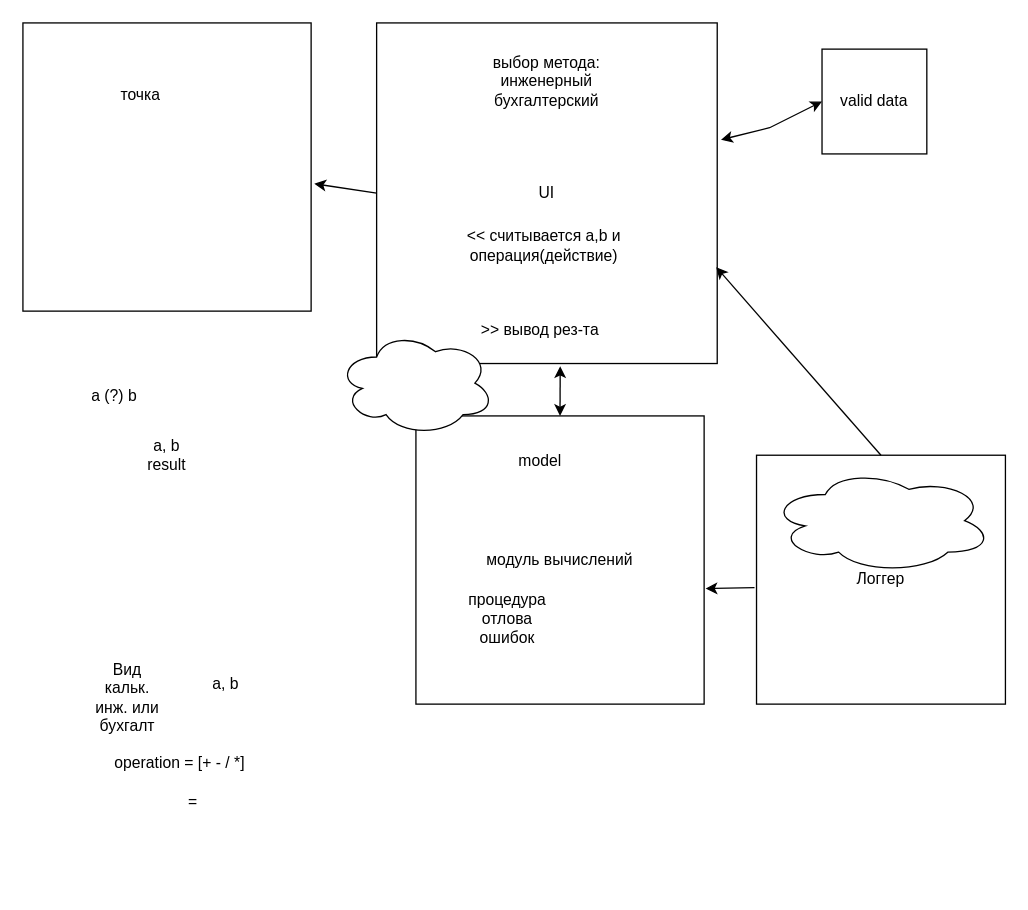
Some shapes in this 1028 by 910 pixel diagram are drawn without their labels. The box of each missing label's shape, as (x1, y1, x2, y2) in pixels:
data type(data): (336, 329, 495, 436)
считывание клав.+ время ошибки: (768, 467, 992, 573)
